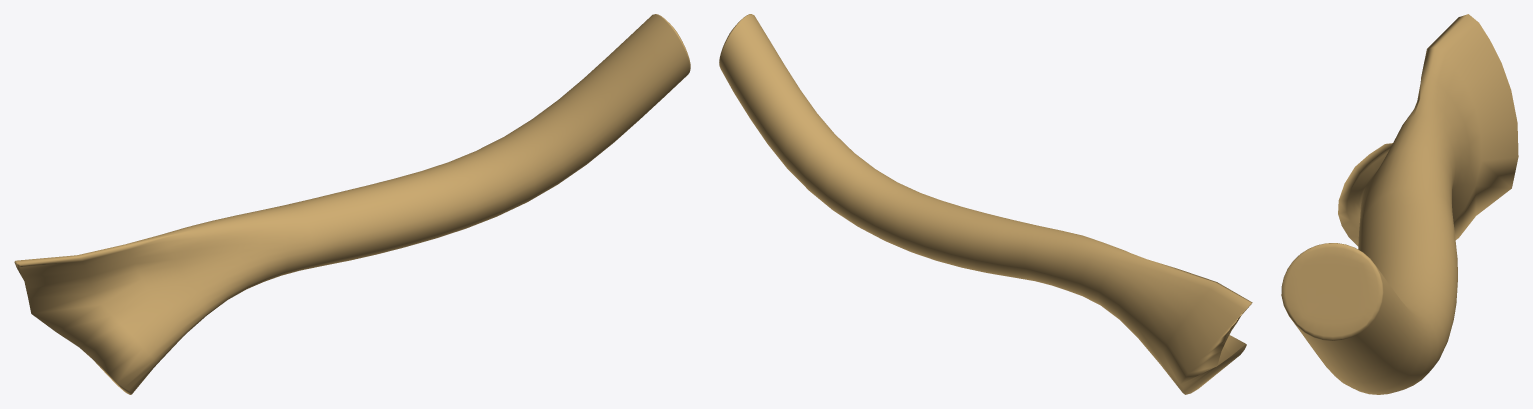
3 views of the same model, side by side, from view 1: azimuth 30°, elevation 25°; view 2: azimuth 150°, elevation 25°; view 3: azimuth 270°, elevation 25° (orthographic). The views are drawn at different scales.
Visible parts, largest first — view 1: 蜗神经; view 2: 蜗神经; view 3: 蜗神经.
Boxes of the visible parts, left/top/right/bottom form: 蜗神经: left=14, top=14, right=690, bottom=394; 蜗神经: left=719, top=14, right=1252, bottom=394; 蜗神经: left=1281, top=14, right=1518, bottom=394.
Size of the model in its own units: 0.032 by 0.0131 by 0.00744.
